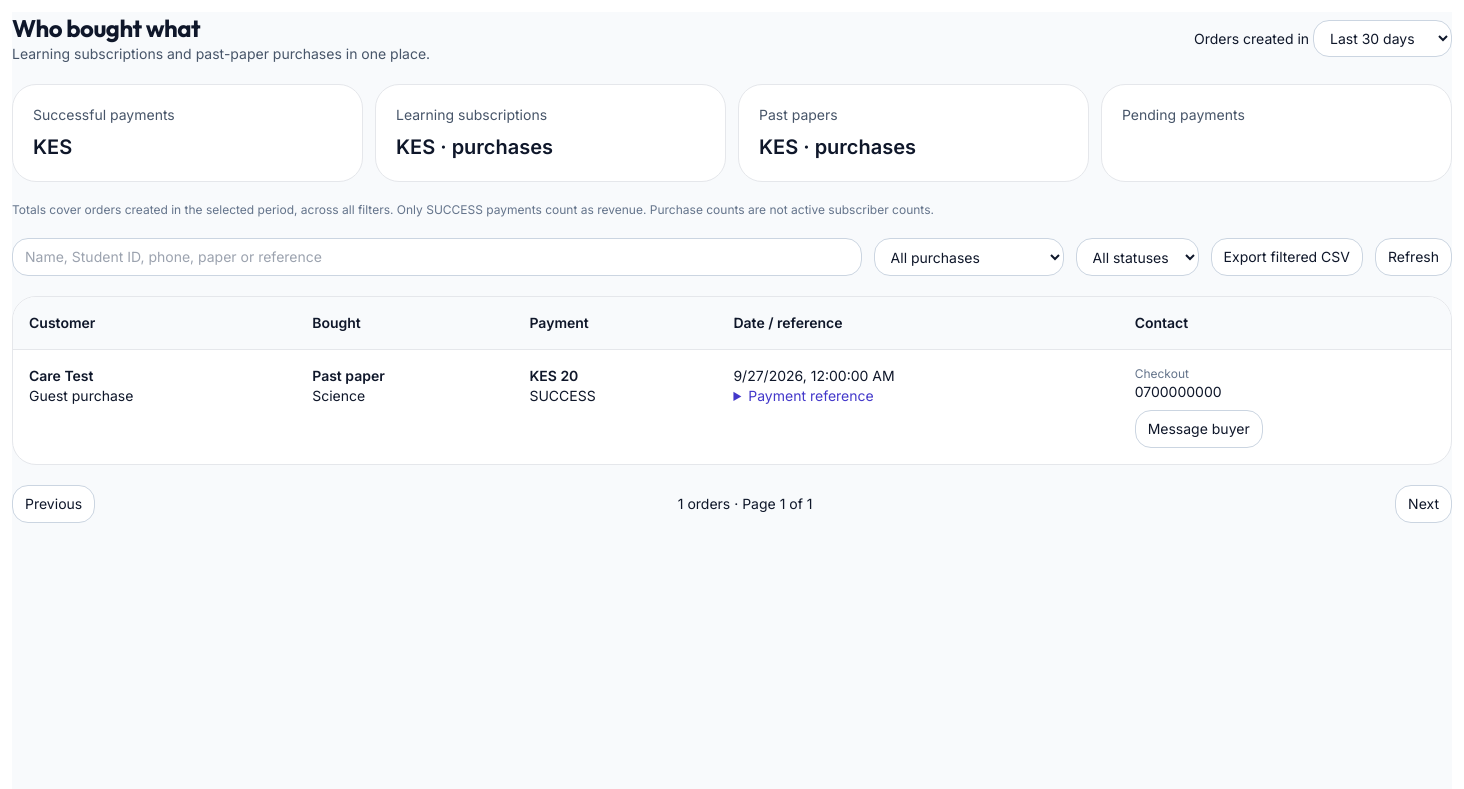
requires current permission for new-material drafts and resets it on purpose change
The width and height of the screenshot is (1464, 789).
Click the button "Message buyer": {"x": 1199, "y": 429} [1135,410,1263,448]
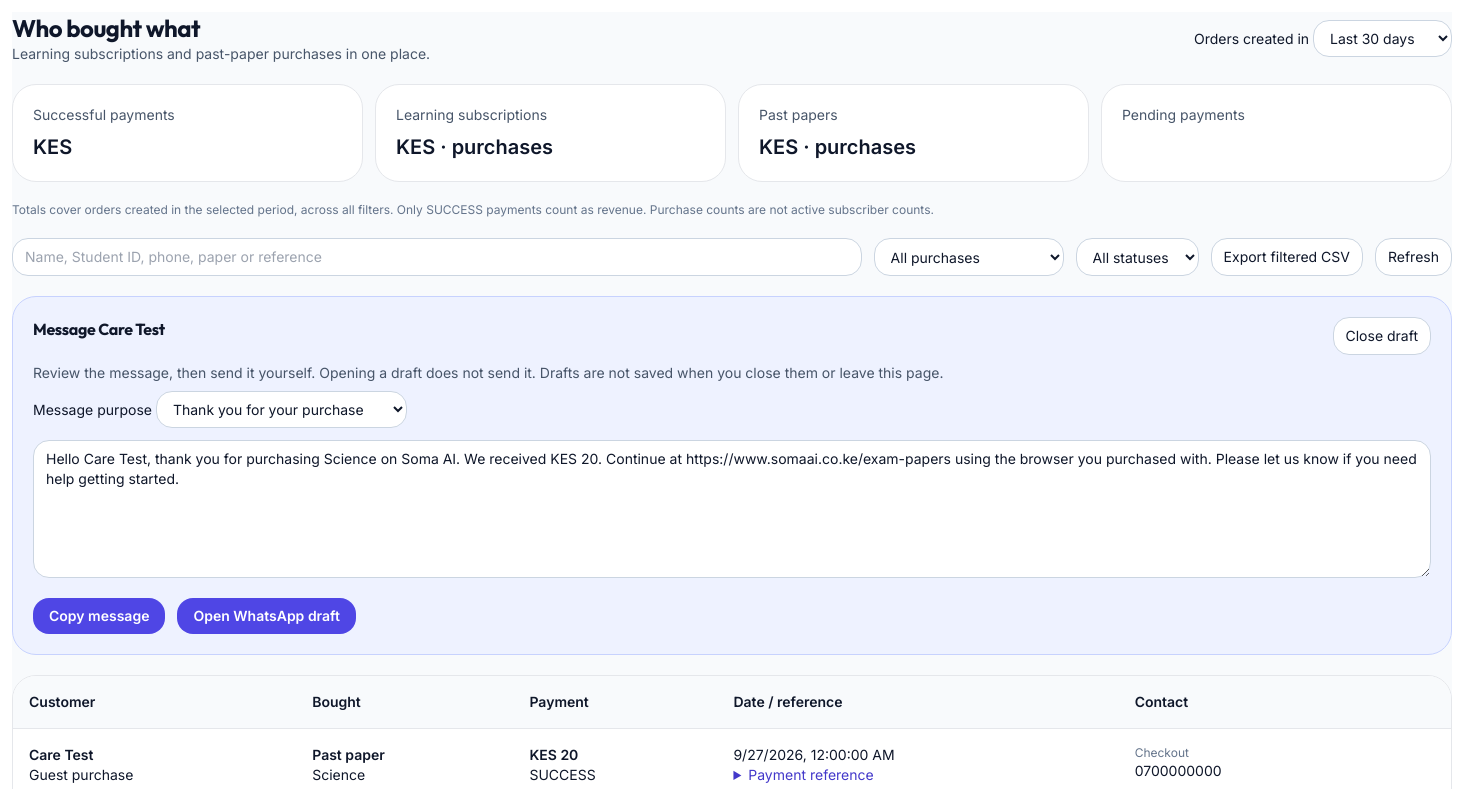
Select "New feature / learning material" in the dropdown labelled "Message purpose": {"x": 281, "y": 410} [156,391,407,428]
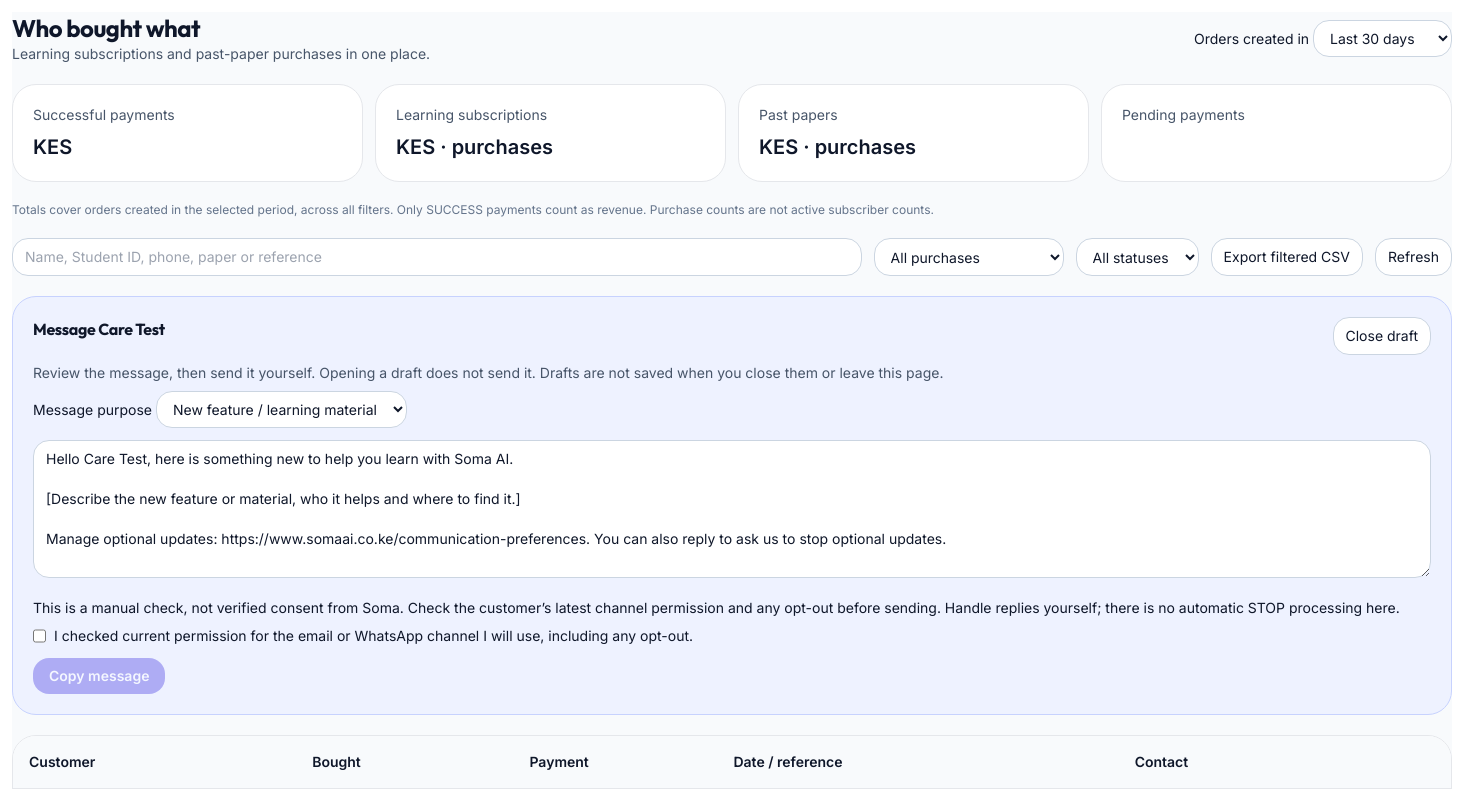
Replace the text in the text box named "Message" with "A new science lesson is ready.": {"x": 732, "y": 509} [33,440,1431,578]
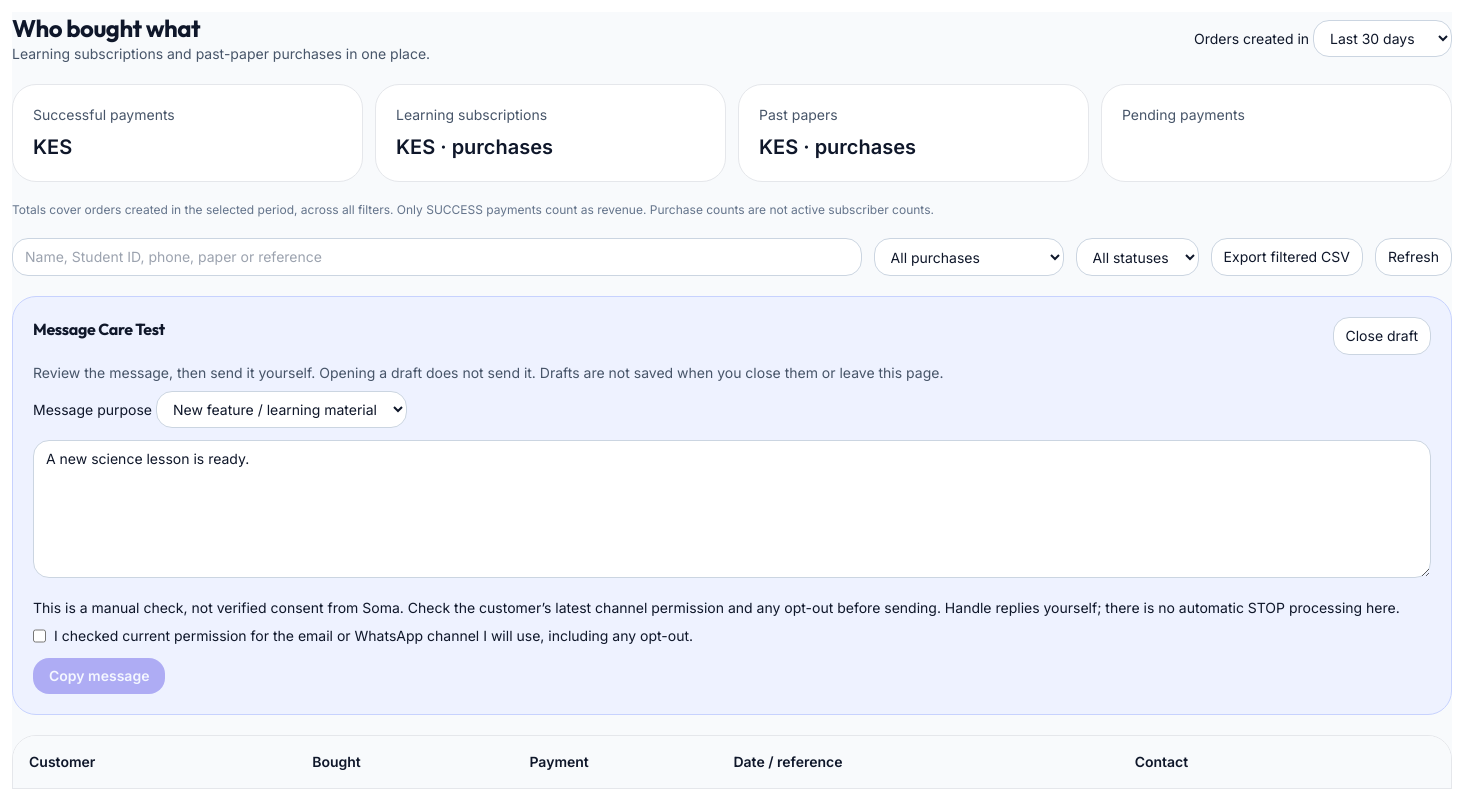
Now the button "Copy message" is disabled, box [33,658,165,694]
Click the checkbox: {"x": 40, "y": 636} [33,626,46,646]
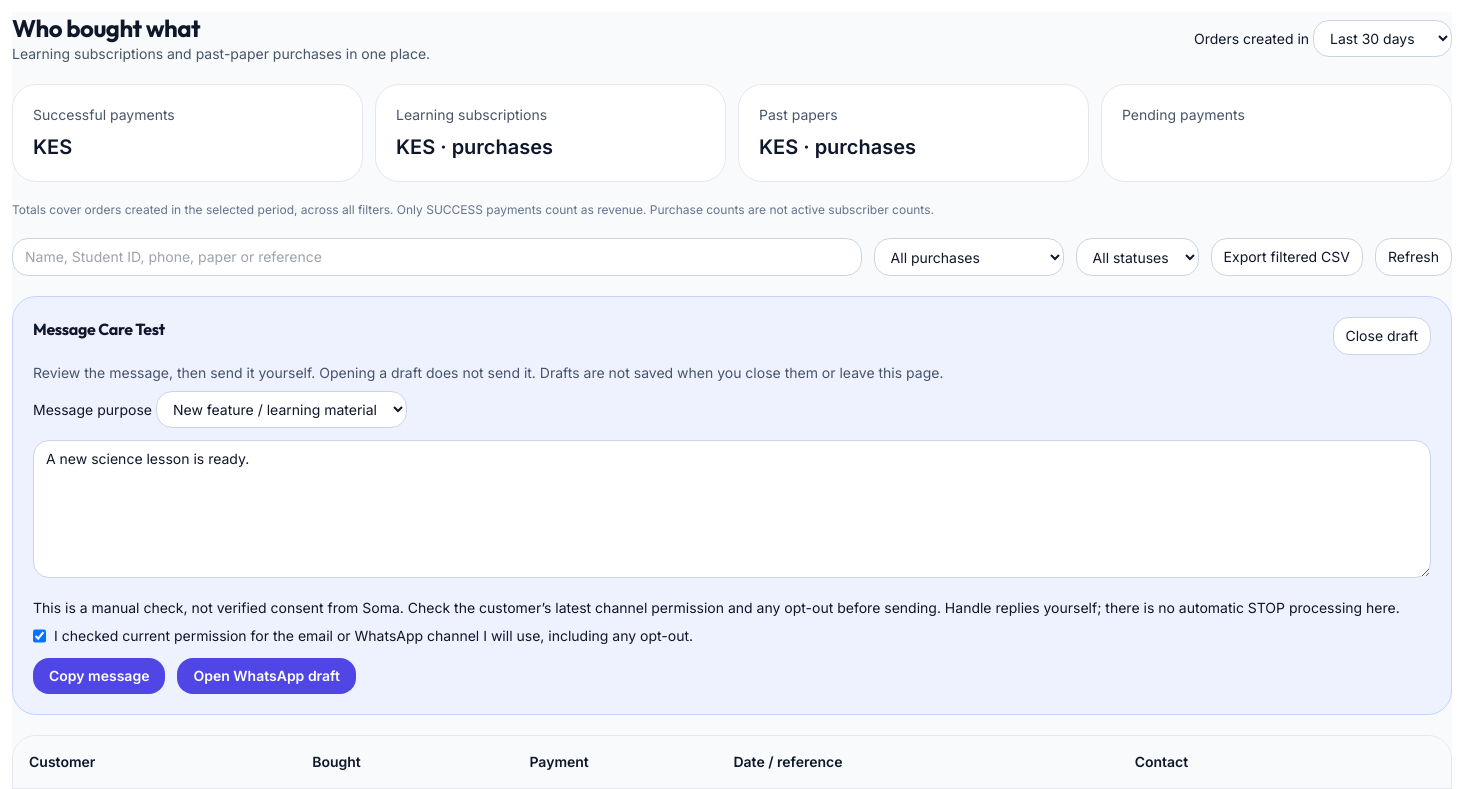
Now the button "Copy message" is enabled, box [33,658,165,694]
Now the link "Open WhatsApp draft" is shown, box [177,658,356,694]
Select "Offer / discount" in the dropdown labelled "Message purpose": {"x": 281, "y": 410} [156,391,407,428]
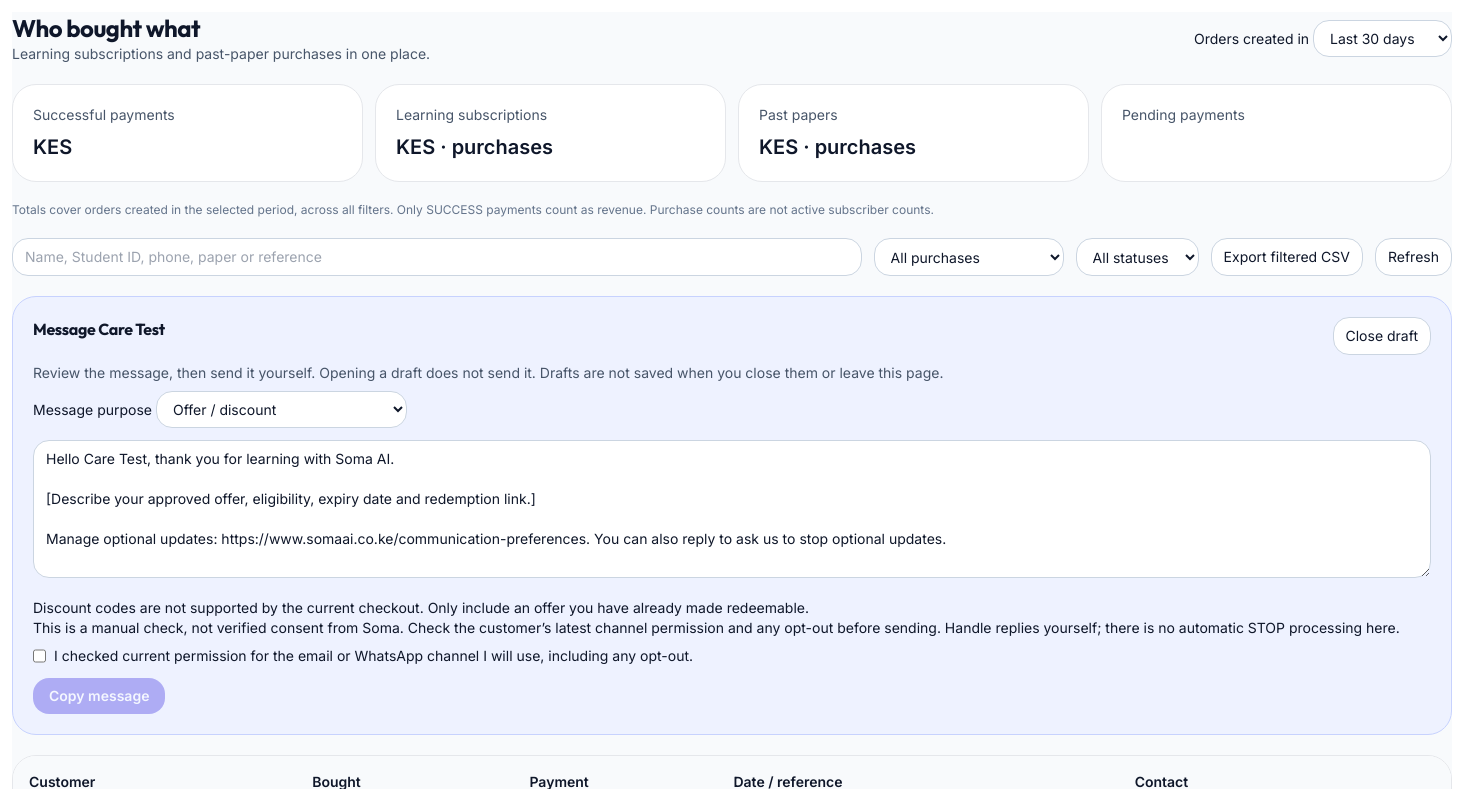
Now the checkbox is not checked, box [33,646,46,666]
Now the button "Copy message" is disabled, box [33,678,165,714]
